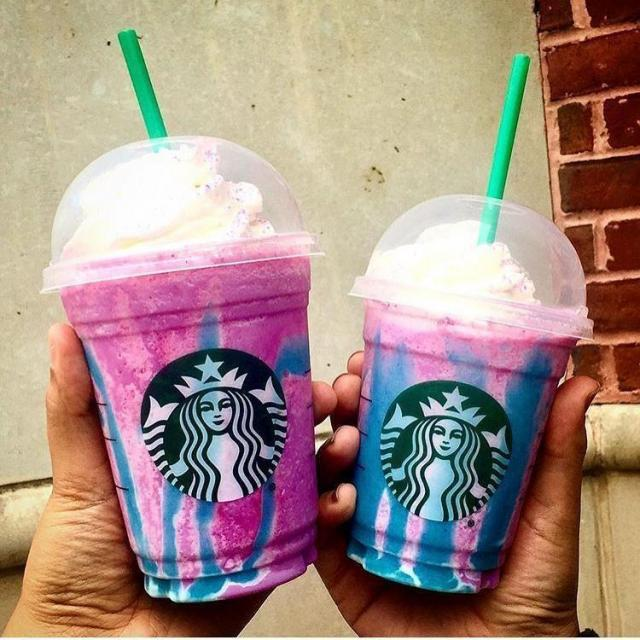cup-disposable: (42, 131, 322, 606), (343, 192, 594, 594)
